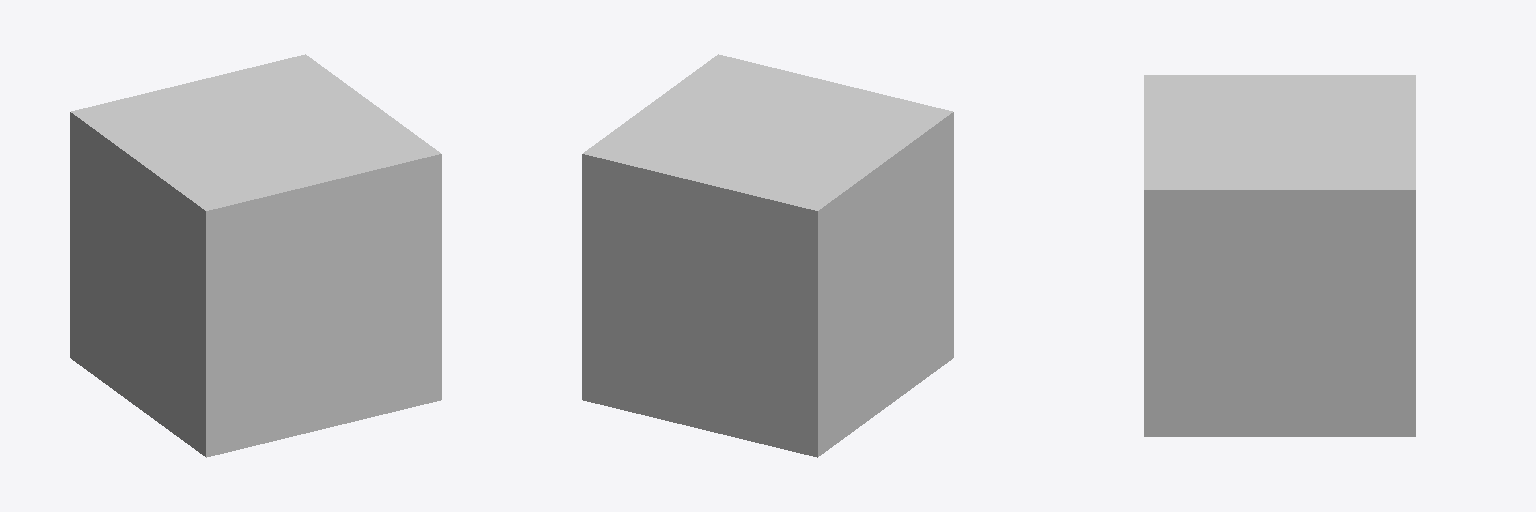
The model's file is dgtalBoard3D-1-points.obj.
3 renders of one model, left to right at view 1: azimuth 30°, elevation 25°; view 2: azimuth 150°, elevation 25°; view 3: azimuth 270°, elevation 25°, orthographic.
Parts seen in each view (by area): view 1: myCubeSetList_0; view 2: myCubeSetList_0; view 3: myCubeSetList_0.
Boxes of the visible parts, x1=… form: myCubeSetList_0: x1=70, y1=54, x2=441, y2=457; myCubeSetList_0: x1=582, y1=54, x2=953, y2=457; myCubeSetList_0: x1=1144, y1=75, x2=1415, y2=436.
Size of the model in its own units: 1 by 1 by 1.